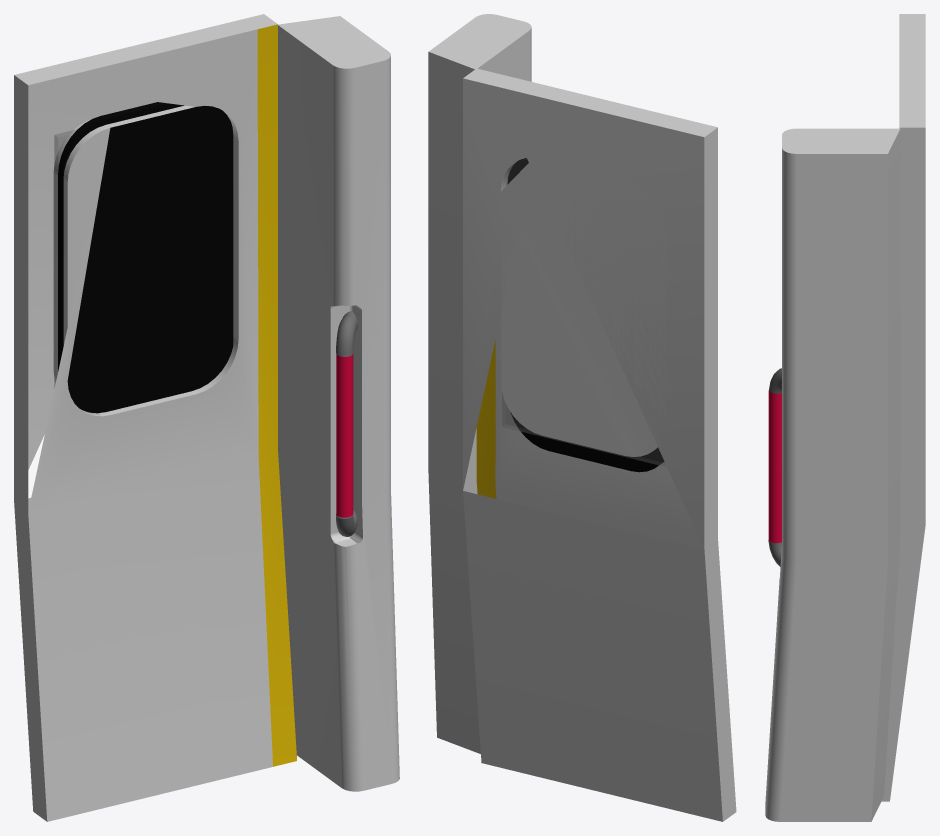
The model's file is mtrDoorForSubstance.fbx.
The picture shows the model from 3 angles, left to right: view 1: azimuth 30°, elevation 25°; view 2: azimuth 150°, elevation 25°; view 3: azimuth 270°, elevation 25°; orthographic projection. The views are drawn at different scales.
Parts seen in each view (by area): view 1: pCube12; view 2: pCube12; view 3: pCube12.
Part boxes in pixels (bbox=[...]): pCube12: bbox=[14, 14, 399, 821]; pCube12: bbox=[428, 14, 736, 821]; pCube12: bbox=[765, 14, 925, 821].
Size of the model in its own units: 5.47 by 12.35 by 2.66.
